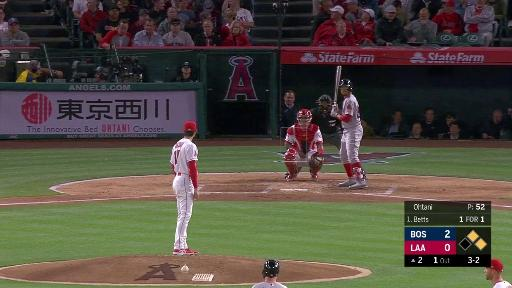pitcher: (173, 121, 206, 256)
